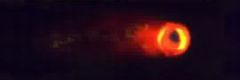keyhole: (168, 27, 181, 45)
